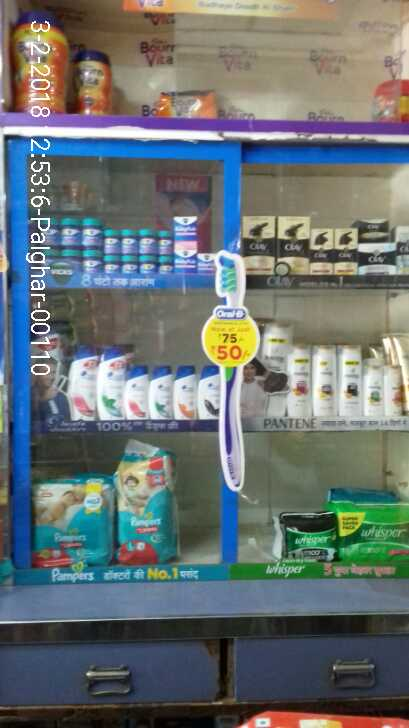vicks: (38, 208, 220, 273)
